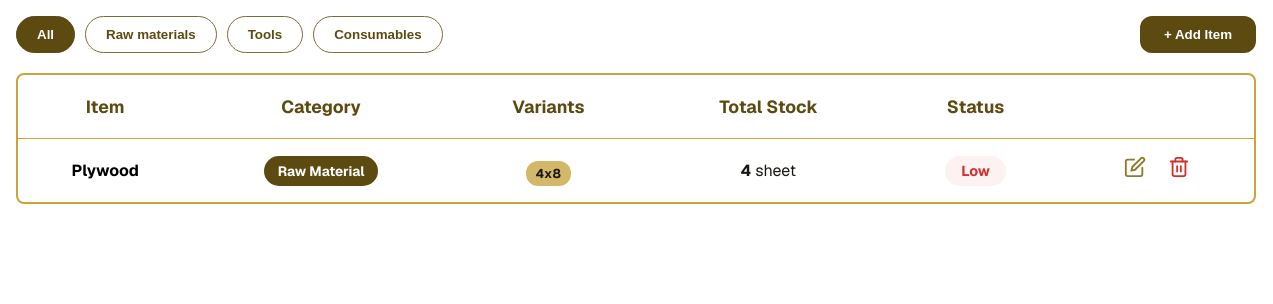
Test: InventoryTable › project tagging › disables +1 for Returned until a project is selected
The image size is (1273, 304).
Click the text "Plywood" at (105, 170), box [18,138,192,202]
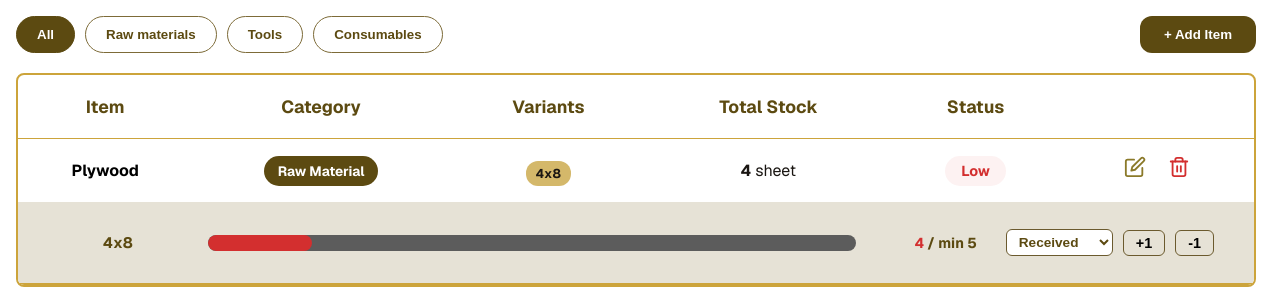
Select "Returned" in the dropdown titled "Reason for adjustment" at (1059, 242), box [1006,229,1113,256]
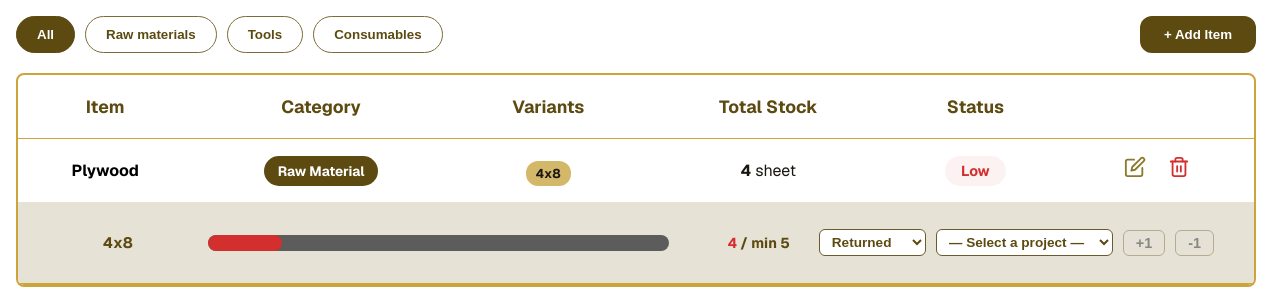
Now the button "+1" is disabled, box [1123,230,1165,256]
Select "WB-03 — Cabinet Set" in the dropdown titled "Project" at (1024, 242), box [936,229,1113,256]
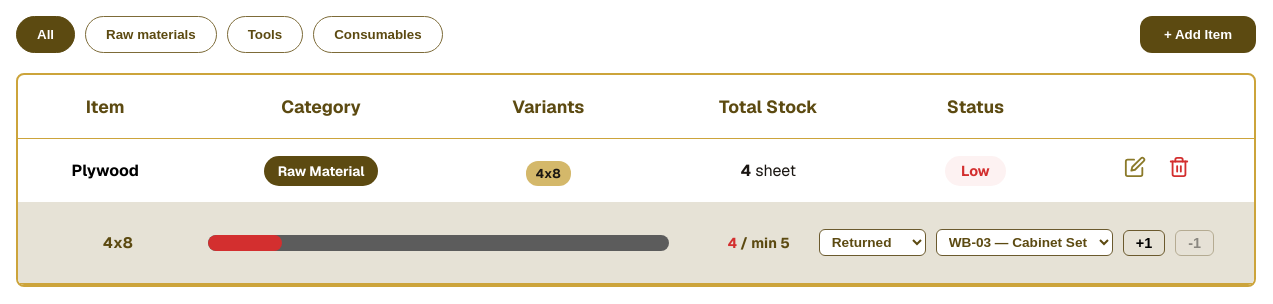
Now the button "+1" is enabled, box [1123,230,1165,256]
